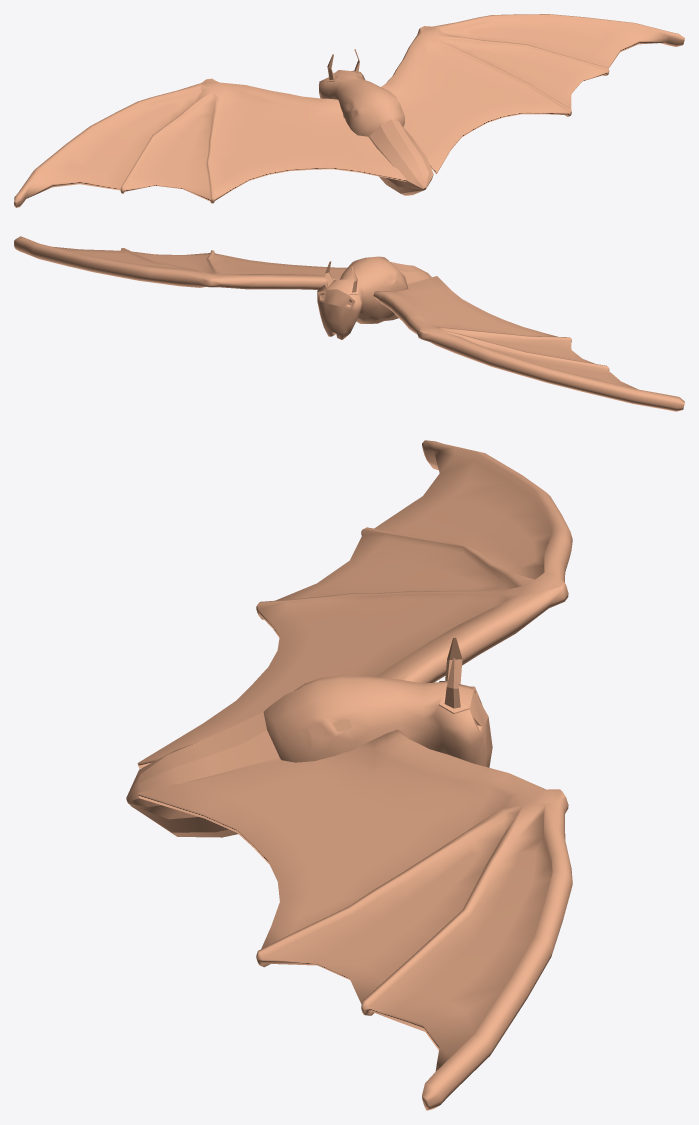
Rendered from murcielago_uv2.fbx.
3 views of the same model, one above another, from view 1: azimuth 30°, elevation 25°; view 2: azimuth 150°, elevation 25°; view 3: azimuth 270°, elevation 25° (orthographic). The views are drawn at different scales.
Parts seen in each view (by area): view 1: Wasp_wasp; view 2: Wasp_wasp; view 3: Wasp_wasp.
Boxes of the visible parts, bbox=[...] form: Wasp_wasp: bbox=[14, 14, 684, 207]; Wasp_wasp: bbox=[14, 236, 684, 411]; Wasp_wasp: bbox=[126, 440, 572, 1110].
Size of the model in its own units: 129 by 17.09 by 37.3.
